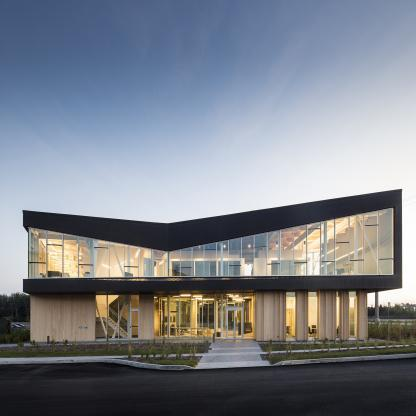Building Outline: (22, 189, 402, 343)
Door: (226, 308, 243, 340), (131, 309, 139, 340)
Facade: (31, 226, 368, 341)
Floor Slab: (23, 280, 402, 283)
Glass Wall: (28, 208, 393, 278), (154, 295, 168, 338), (243, 293, 255, 338), (96, 295, 107, 340), (108, 295, 119, 340), (119, 295, 130, 340), (203, 294, 214, 339), (215, 294, 226, 338), (191, 295, 202, 339), (168, 295, 179, 338), (180, 295, 191, 338), (348, 291, 357, 338), (287, 292, 296, 339), (308, 292, 317, 339), (330, 291, 339, 338), (226, 293, 243, 307), (131, 295, 139, 309)
Ground Floor: (31, 283, 368, 341)
Roof: (67, 277, 321, 281)
Top Floor: (28, 225, 402, 280)
